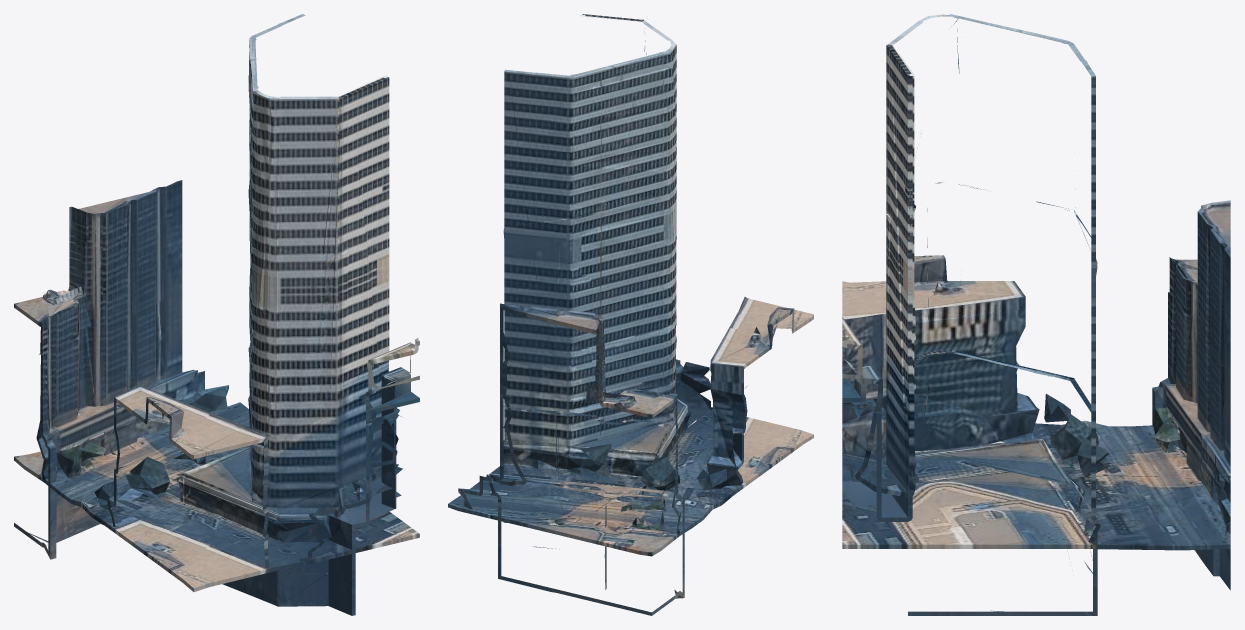
The model's file is chunk_-4_0.glb.
3 views of the same model, side by side, from view 1: azimuth 30°, elevation 25°; view 2: azimuth 150°, elevation 25°; view 3: azimuth 270°, elevation 25° (orthographic). The views are drawn at different scales.
Visible parts, largest first — view 1: hero-chunk; view 2: hero-chunk; view 3: hero-chunk.
Part boxes in pixels (x1,y1,x2,y2): hero-chunk: (14, 14, 419, 615); hero-chunk: (448, 14, 813, 615); hero-chunk: (842, 14, 1230, 615).
Bounding box in the file's own units: 56.35 × 120 × 76.32.
Materials: 4 (4 with a texture image).
